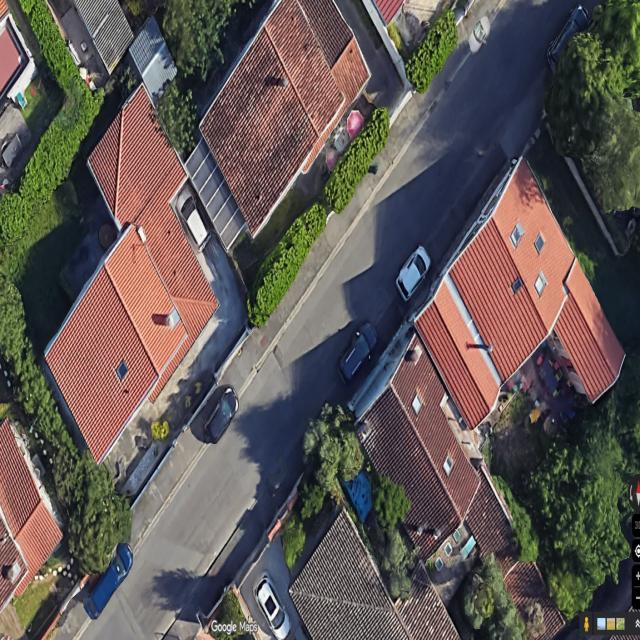maison: (0, 81, 277, 482), (370, 157, 636, 457), (159, 0, 396, 239), (329, 331, 508, 560), (269, 507, 483, 640), (0, 418, 62, 611)
